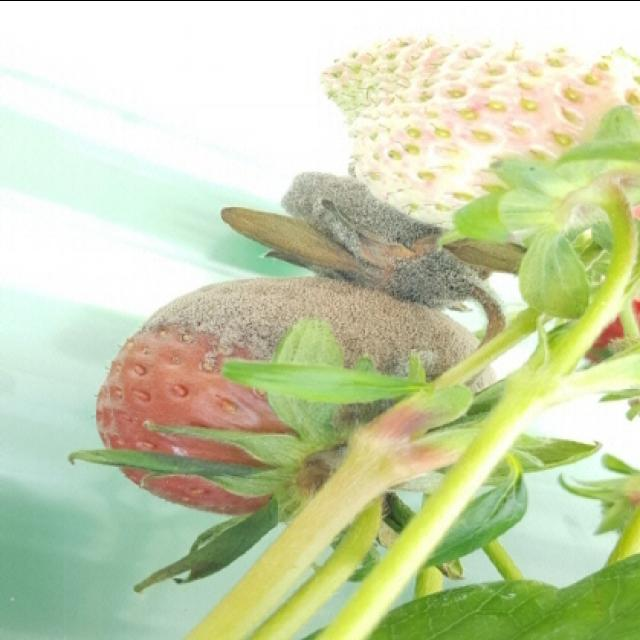Gray Mold: (125, 275, 498, 429), (280, 167, 505, 324)
